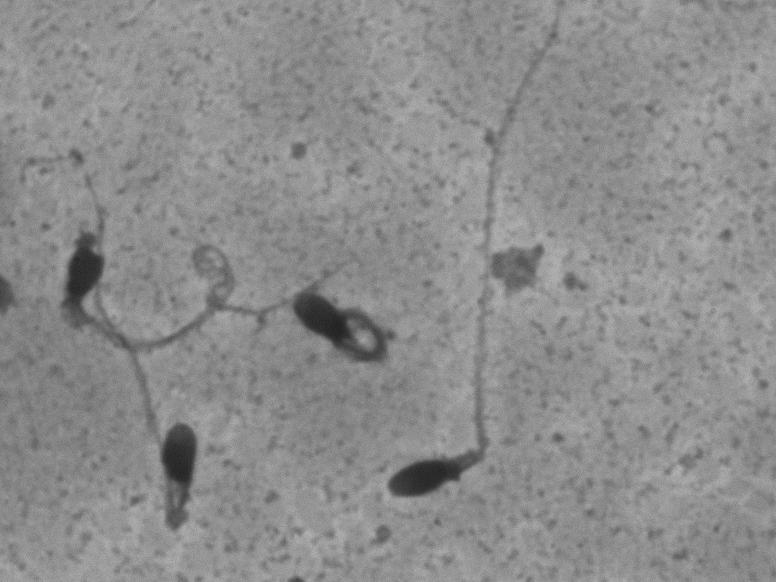Abnormal: (372, 18, 582, 506), (107, 372, 246, 541), (289, 278, 396, 375)
